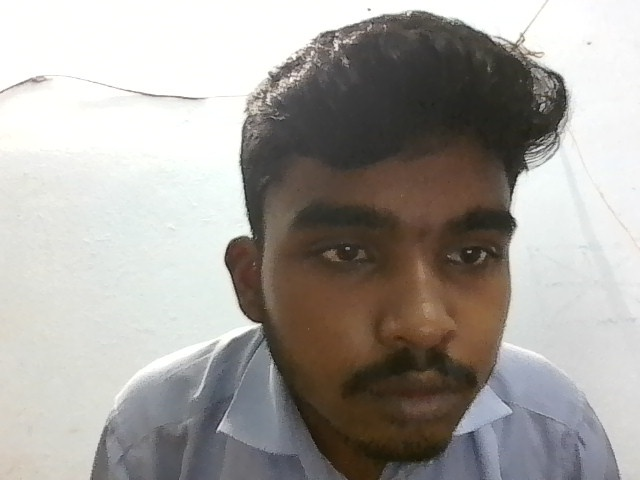real: (207, 12, 563, 480)
